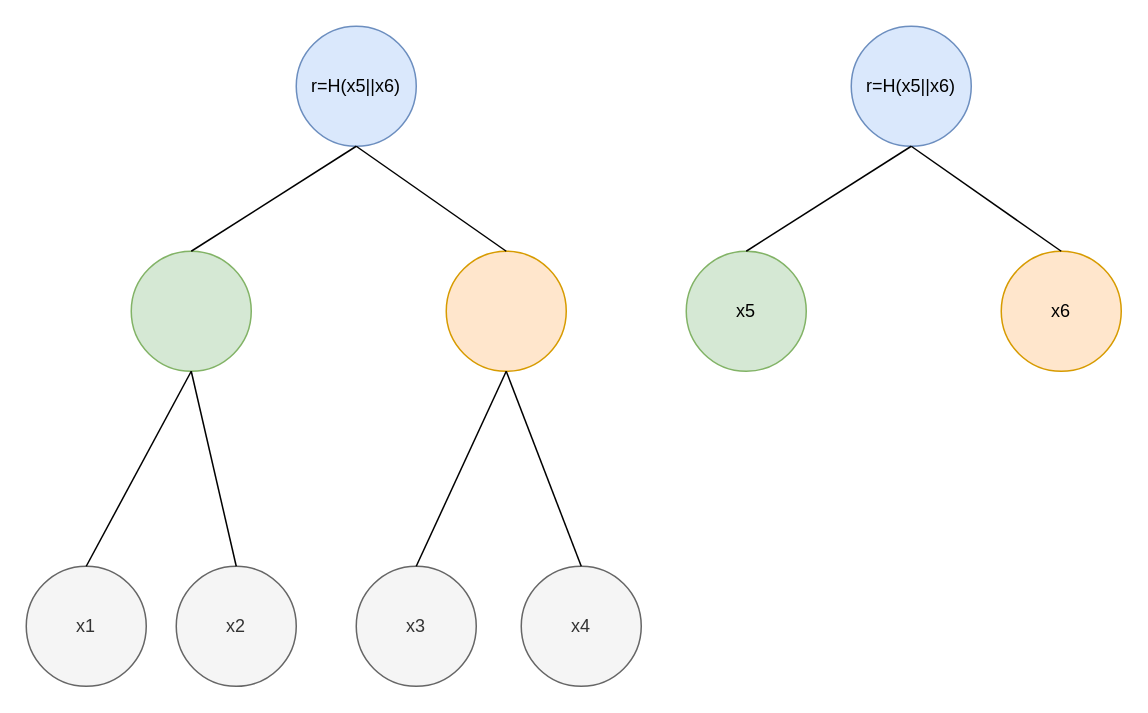
This 1148x713 diagram has some shape labels left out. Each missing label, with the centre of its shape:
"H(x1||x2)=x5" belongs at pixel 190 310.
"H(x5||x6)=x6" belongs at pixel 505 310.
